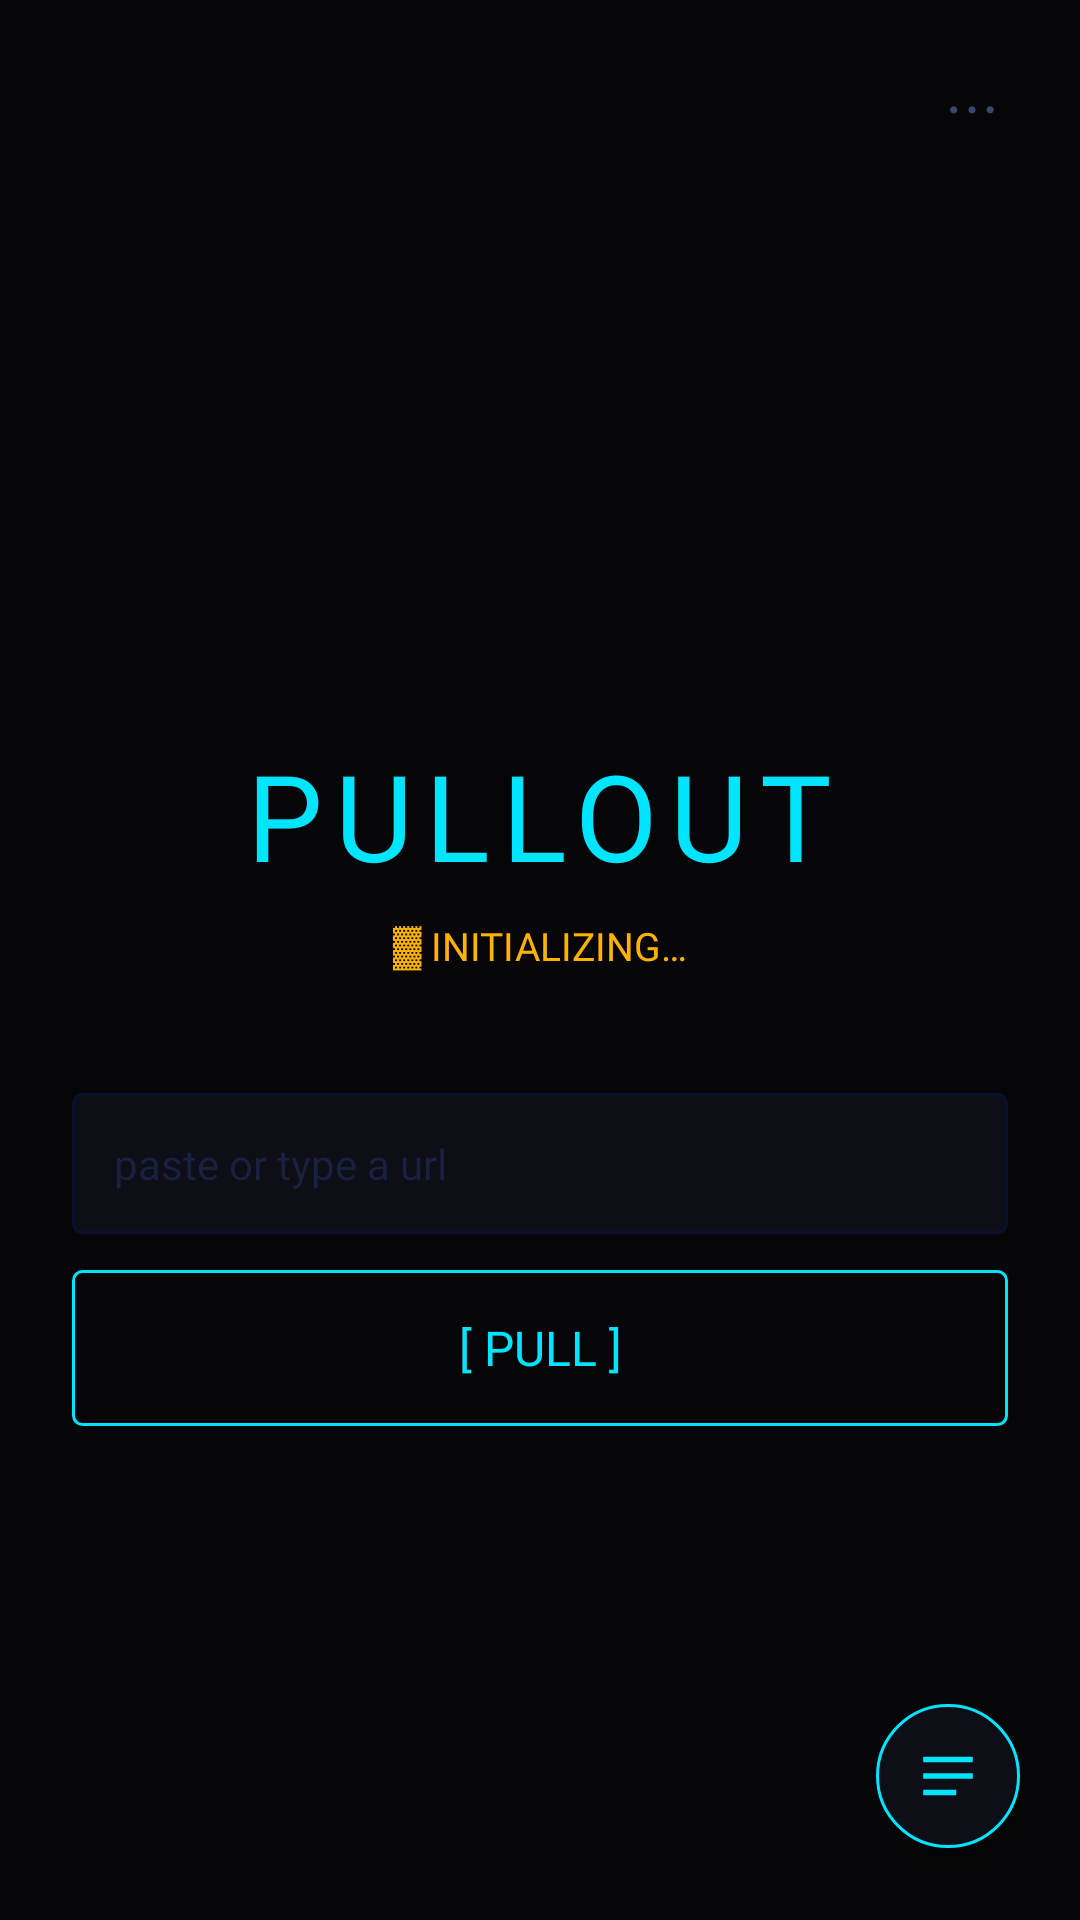

Icons on this 1080*1920 Android screen, each with the point to tap as [x,y]:
queue: [948,1776]
